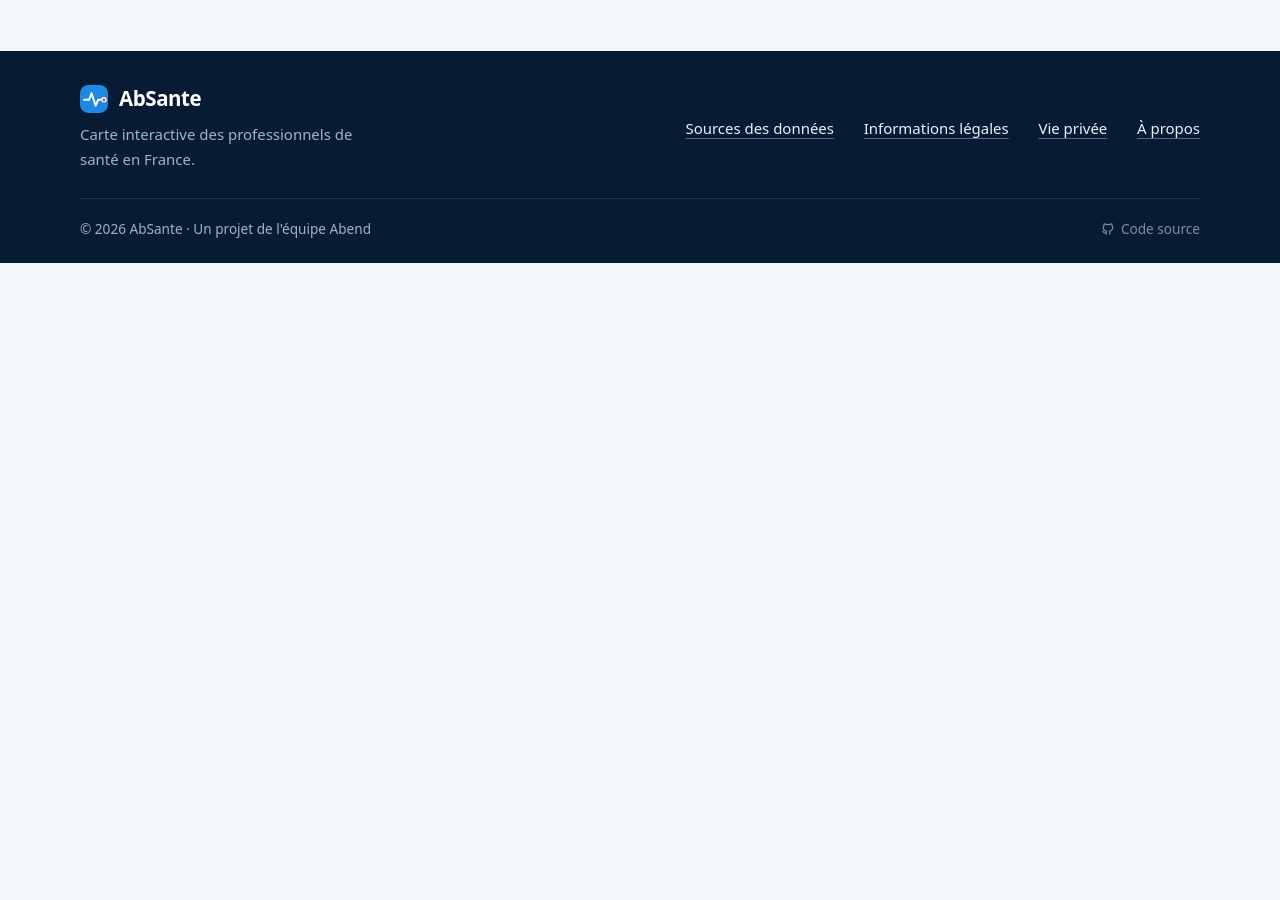
Test: SiteFooter › « Informations légales » ouvre sa fenêtre de détail, et elle seule
What coordinates should you click on to do the following:
click the button "Informations légales"
I would click on:
 (936, 129)
Its box is [864,116,1009,142].
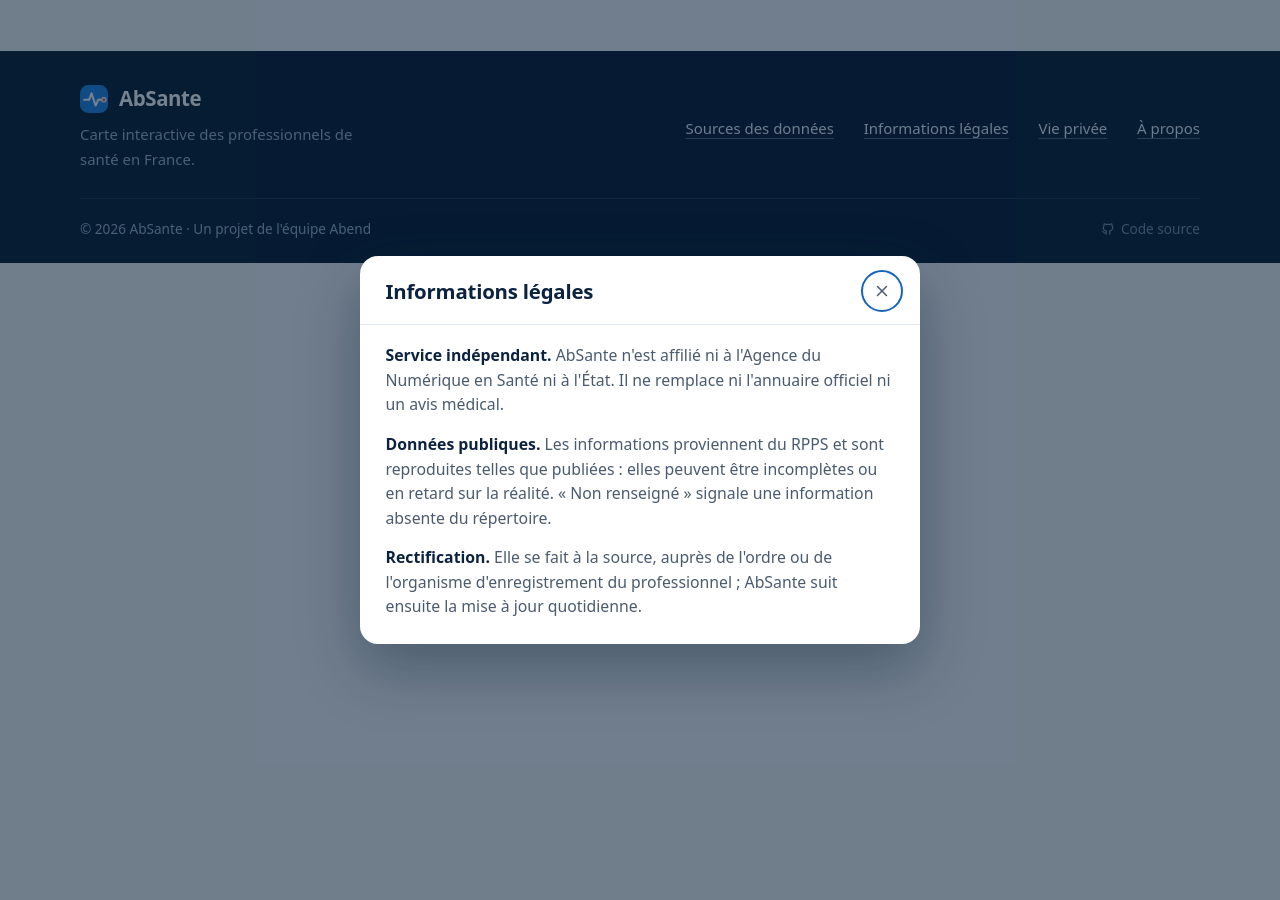
Result: the heading "Informations légales" is shown at [386,279,593,304]
